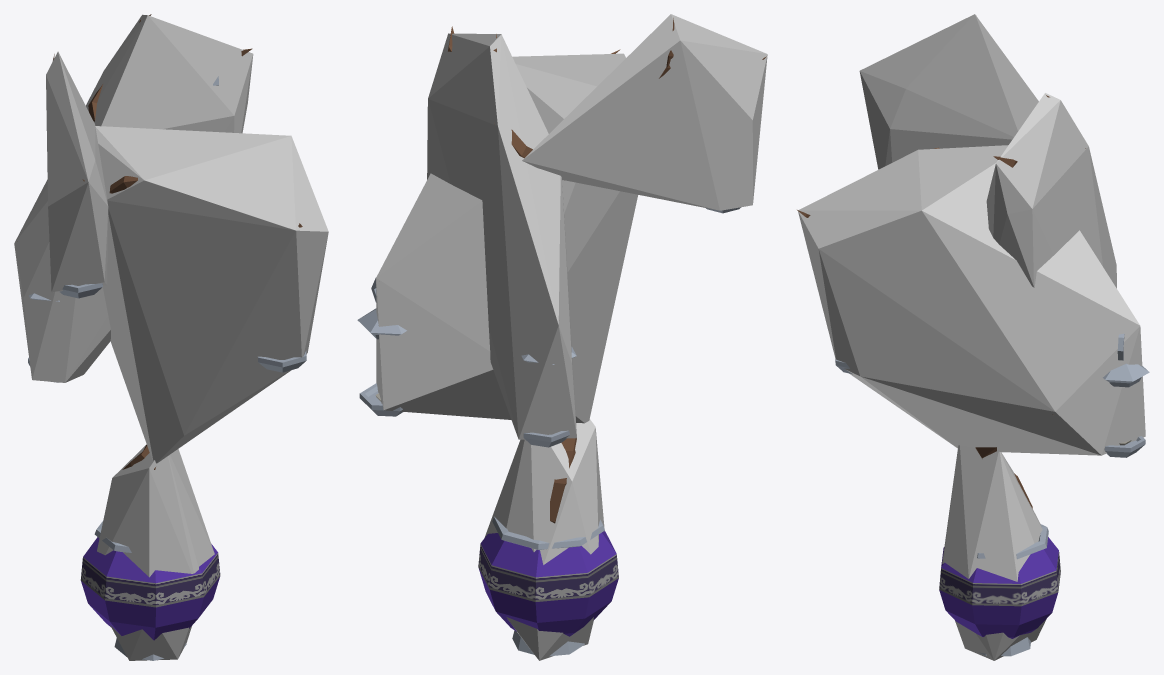
Rendered from SM_Prop_Lantern_02.fbx.
The picture shows the model from 3 angles, left to right: view 1: azimuth 30°, elevation 25°; view 2: azimuth 150°, elevation 25°; view 3: azimuth 270°, elevation 25°; orthographic projection. The views are drawn at different scales.
Visible parts, largest first — view 1: SM_Prop_Lantern_02_ConvexHulls, SM_Prop_Lantern_02; view 2: SM_Prop_Lantern_02_ConvexHulls, SM_Prop_Lantern_02; view 3: SM_Prop_Lantern_02_ConvexHulls, SM_Prop_Lantern_02.
Part boxes in pixels (x1,y1,x2,y2): SM_Prop_Lantern_02_ConvexHulls: (14, 14, 328, 660); SM_Prop_Lantern_02: (17, 14, 306, 660); SM_Prop_Lantern_02_ConvexHulls: (376, 14, 767, 660); SM_Prop_Lantern_02: (357, 18, 766, 656); SM_Prop_Lantern_02_ConvexHulls: (798, 14, 1145, 660); SM_Prop_Lantern_02: (797, 95, 1149, 656).
Size of the model in its own units: 97.51 by 117 by 214.
2 materials, 1 textured.
